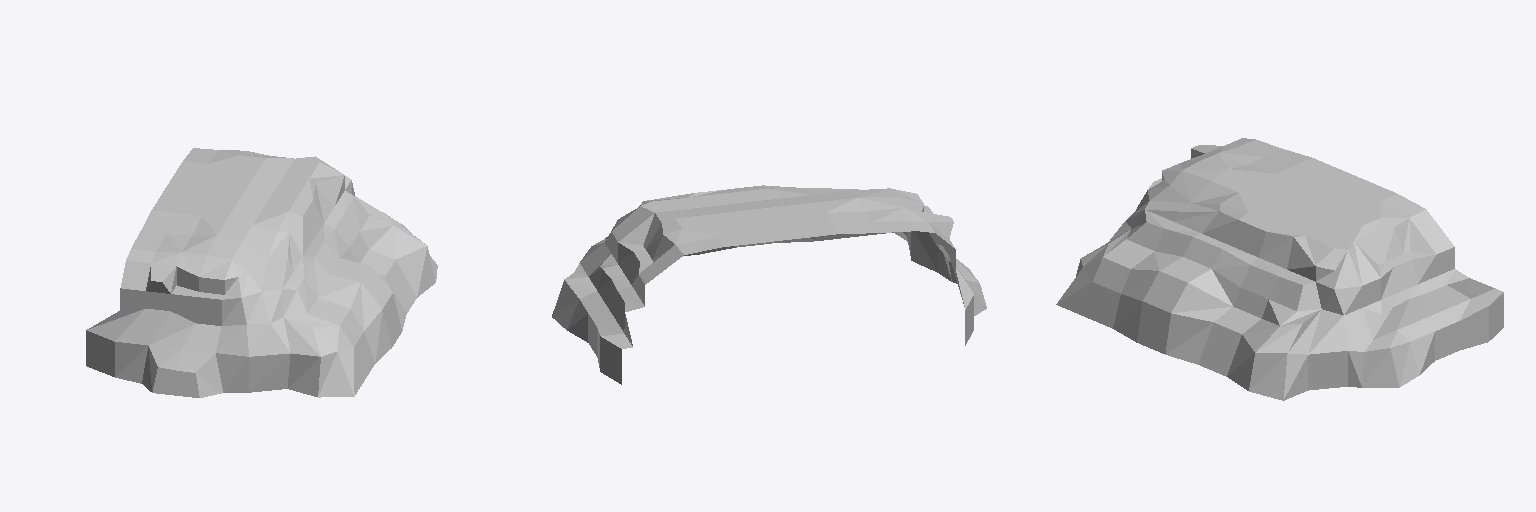
The model's file is mLv1Mountain10.obj.
3 renders of one model, left to right at view 1: azimuth 30°, elevation 25°; view 2: azimuth 150°, elevation 25°; view 3: azimuth 270°, elevation 25°, orthographic.
Parts seen in each view (by area): view 1: mMountain08; view 2: mMountain08; view 3: mMountain08.
Part boxes in pixels (left/top/right/bottom): mMountain08: left=86, top=148, right=437, bottom=397; mMountain08: left=552, top=185, right=986, bottom=384; mMountain08: left=1056, top=138, right=1503, bottom=400.
Bounding box in the file's own units: 57.98 × 16.69 × 61.26.